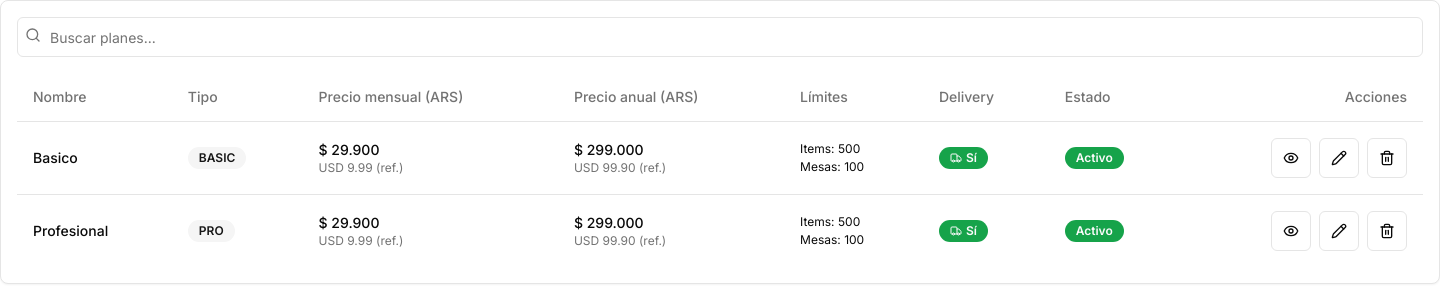
Scenario: PlansTable: acciones que siguen funcionando › la búsqueda filtra por nombre, descripción y tipo
The width and height of the screenshot is (1440, 301).
Type "crecer" into the field with placeholder "Buscar planes..." at (720, 37), box [17,17,1423,57]
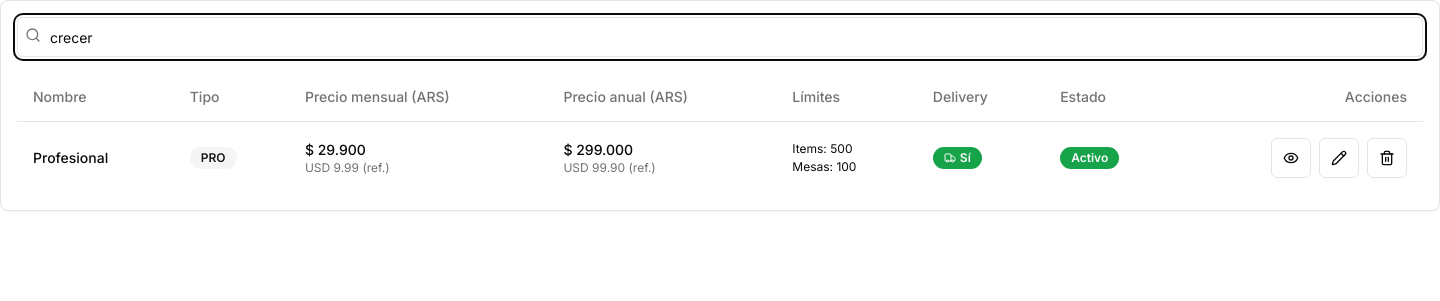
Expected: the text "Profesional" is shown, [17,121,174,194]
Result: the text "Basico" is gone
